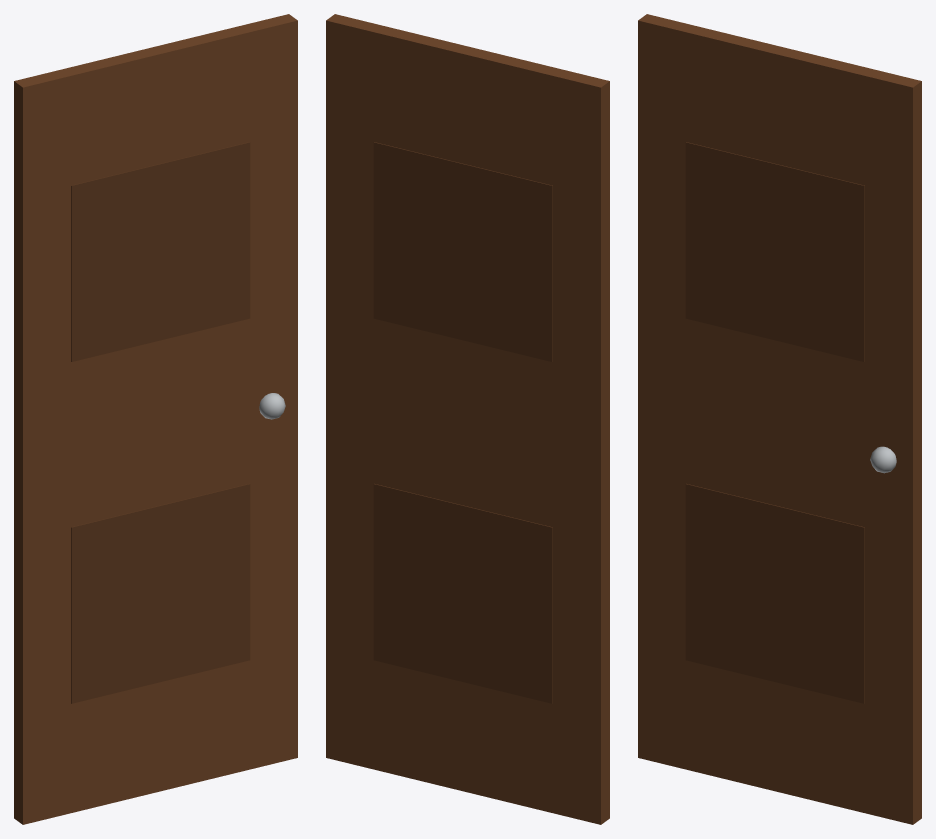
The model's file is door.obj.
3 views of the same model, side by side, from view 1: azimuth 30°, elevation 25°; view 2: azimuth 150°, elevation 25°; view 3: azimuth 330°, elevation 25° (orthographic).
Parts seen in each view (by area): view 1: door_0, door_2, door_1, door_3; view 2: door_0, door_2, door_1; view 3: door_0, door_2, door_1, door_3.
Part boxes in pixels (x1=…): door_0: x1=14, y1=14, x2=297, y2=824; door_2: x1=71, y1=483, x2=250, y2=703; door_1: x1=71, y1=142, x2=250, y2=361; door_3: x1=259, y1=393, x2=285, y2=419; door_0: x1=326, y1=14, x2=609, y2=824; door_2: x1=373, y1=483, x2=552, y2=703; door_1: x1=373, y1=142, x2=552, y2=361; door_0: x1=638, y1=14, x2=921, y2=824; door_2: x1=685, y1=483, x2=864, y2=703; door_1: x1=685, y1=142, x2=864, y2=361; door_3: x1=870, y1=446, x2=896, y2=473.
Size of the model in its own units: 0.8 by 2.05 by 0.09.
